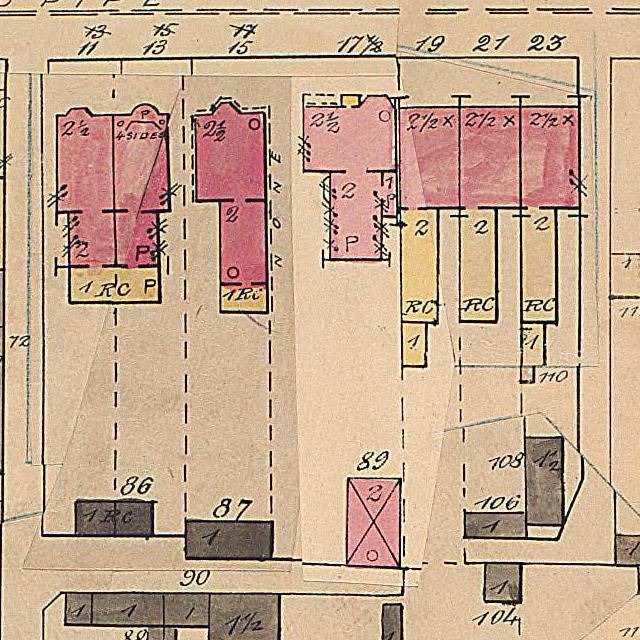building-footprints: (57, 104, 169, 303), (303, 95, 397, 259), (196, 103, 267, 313), (459, 107, 521, 322), (399, 107, 460, 322), (520, 107, 580, 322), (348, 478, 400, 567), (525, 438, 563, 525), (186, 521, 272, 559), (209, 594, 279, 640), (77, 502, 153, 535), (92, 593, 164, 626), (465, 513, 526, 539), (165, 594, 210, 626), (521, 323, 545, 382), (485, 563, 520, 601), (610, 254, 640, 297), (402, 322, 426, 366), (66, 593, 92, 625), (615, 535, 640, 565), (383, 604, 401, 640)
